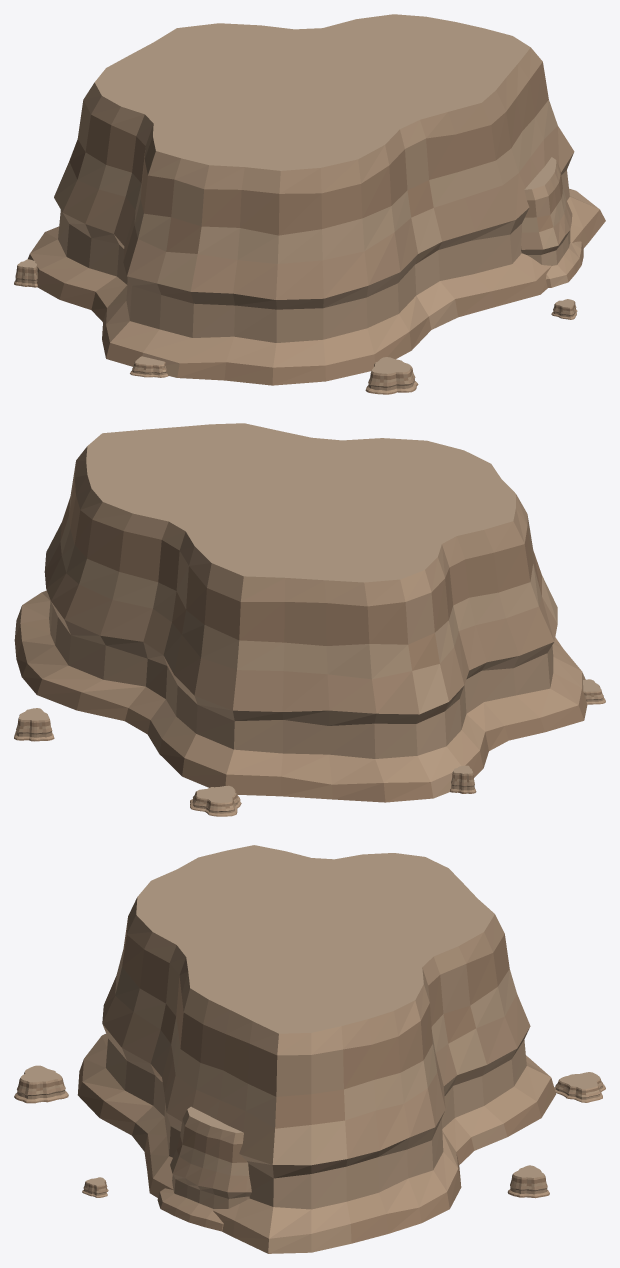
The model's file is CanyonMesa3.glb.
The picture shows the model from 3 angles, top to bottom: view 1: azimuth 30°, elevation 25°; view 2: azimuth 150°, elevation 25°; view 3: azimuth 270°, elevation 25°; orthographic projection. The views are drawn at different scales.
Parts seen in each view (by area): view 1: Wind cut canyon face.002, Stepped sandstone spur.002, Canyon scree.019, Canyon scree.018, Canyon scree.017; view 2: Wind cut canyon face.002, Canyon scree.016, Canyon scree.015, Canyon scree.017; view 3: Wind cut canyon face.002, Stepped sandstone spur.002, Canyon scree.019, Canyon scree.016, Canyon scree.015.
Part boxes in pixels (x1,y1,x2,y2): Wind cut canyon face.002: [28, 14, 605, 385]; Stepped sandstone spur.002: [521, 157, 583, 287]; Canyon scree.019: [365, 357, 418, 394]; Canyon scree.018: [130, 356, 168, 377]; Canyon scree.017: [14, 259, 37, 287]; Wind cut canyon face.002: [14, 423, 587, 802]; Canyon scree.016: [190, 785, 241, 816]; Canyon scree.015: [14, 708, 54, 741]; Canyon scree.017: [450, 765, 476, 793]; Wind cut canyon face.002: [77, 845, 555, 1253]; Stepped sandstone spur.002: [157, 1106, 251, 1231]; Canyon scree.019: [14, 1065, 68, 1103]; Canyon scree.016: [554, 1072, 605, 1102]; Canyon scree.015: [507, 1165, 549, 1198].
Bounding box in the file's own units: 17.14 × 5.92 × 17.05.
